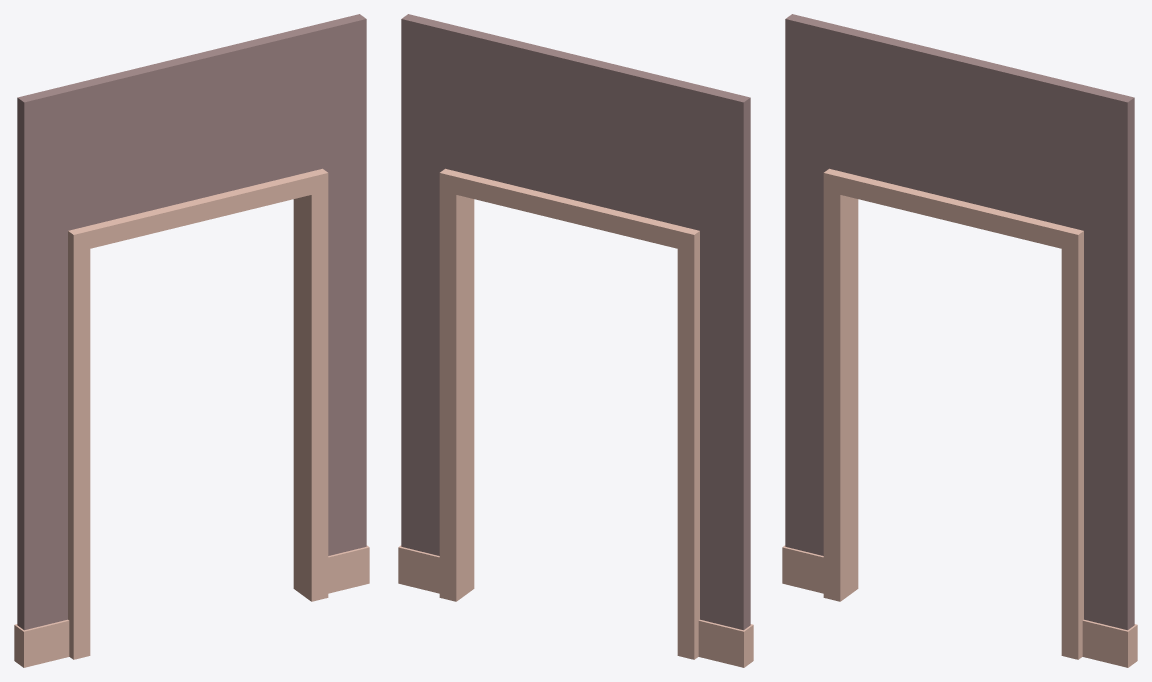
The model's file is SM_Door_Frame_2_01.fbx.
3 renders of one model, left to right at view 1: azimuth 30°, elevation 25°; view 2: azimuth 150°, elevation 25°; view 3: azimuth 330°, elevation 25°, orthographic.
Parts seen in each view (by area): view 1: SM_Door_Frame_2_01; view 2: SM_Door_Frame_2_01; view 3: SM_Door_Frame_2_01.
Part boxes in pixels (bbox=[...]): SM_Door_Frame_2_01: bbox=[14, 14, 369, 667]; SM_Door_Frame_2_01: bbox=[398, 14, 753, 667]; SM_Door_Frame_2_01: bbox=[782, 14, 1137, 667].
Bounding box in the file's own units: 190 × 295 × 17.13.
